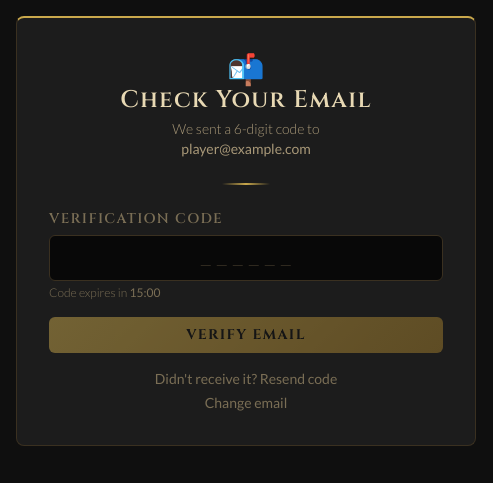
Test: VerifyForm › shows 'Network error' when fetch throws
The width and height of the screenshot is (493, 483).
In the field named "6-digit verification code": (246, 258) [49,235,443,281], type "ABC123"
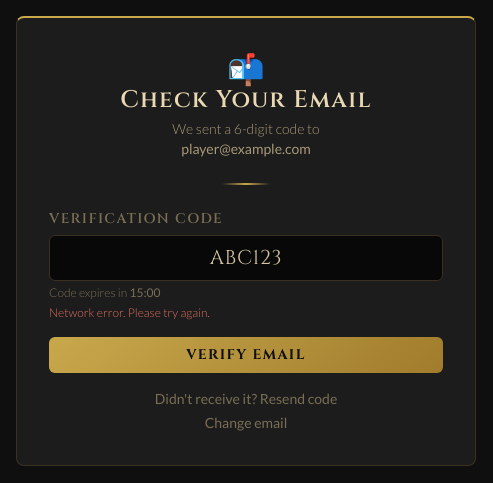
Now the text "Network error. Please try again." is shown, box [49,305,210,320]
